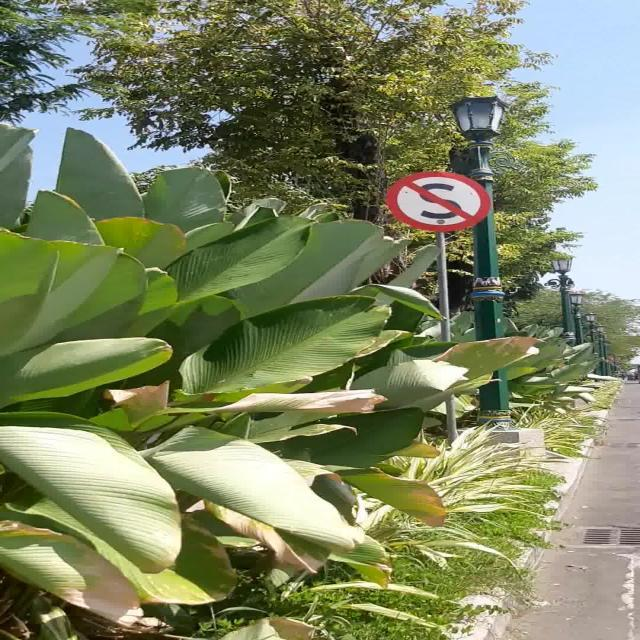Dilarang Berhenti: (386, 172, 490, 232)
